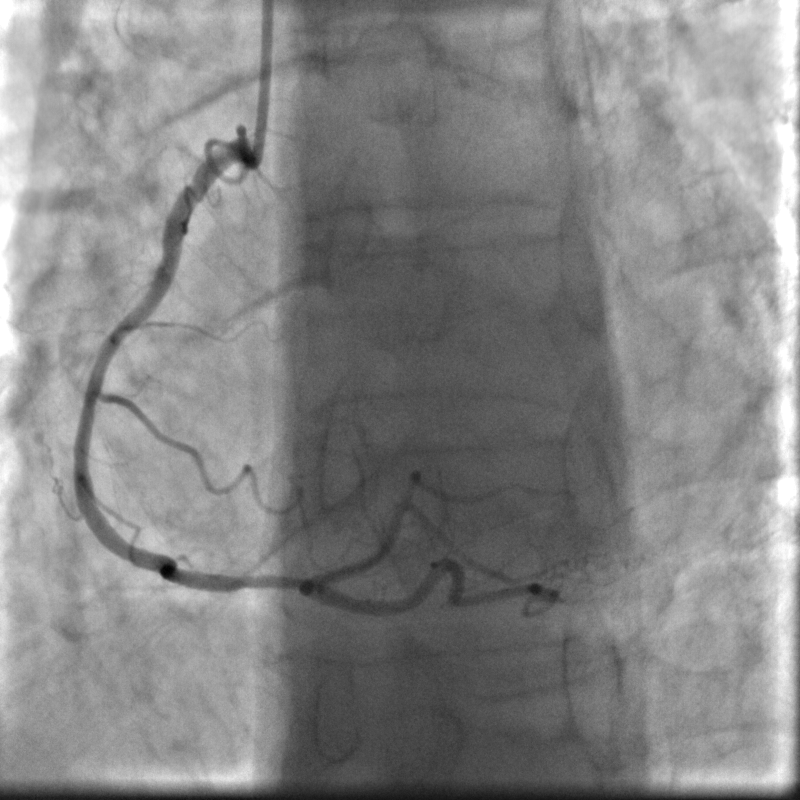Stenosis: (220, 560, 312, 609)
